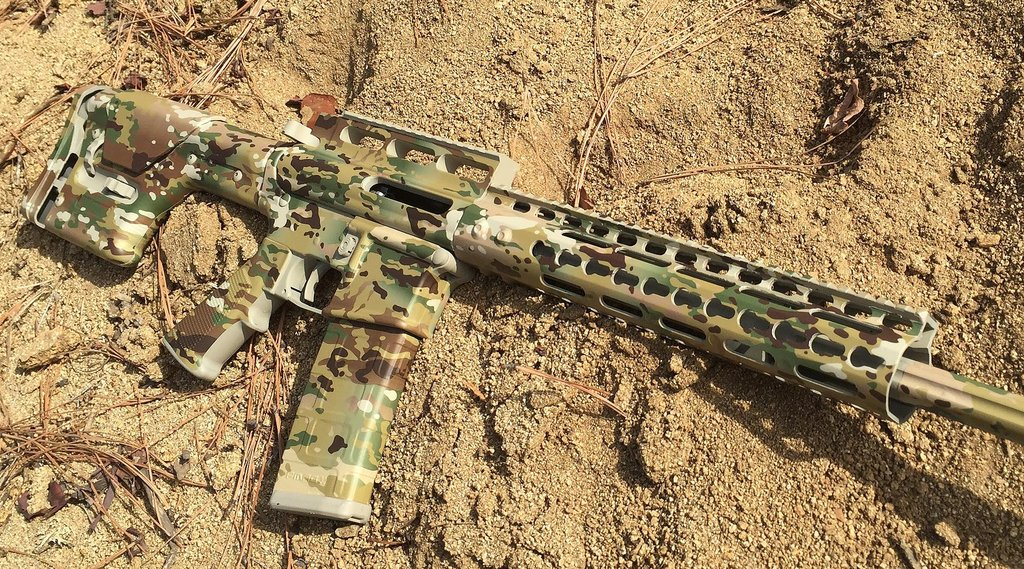Rifle: (12, 76, 1024, 537)
